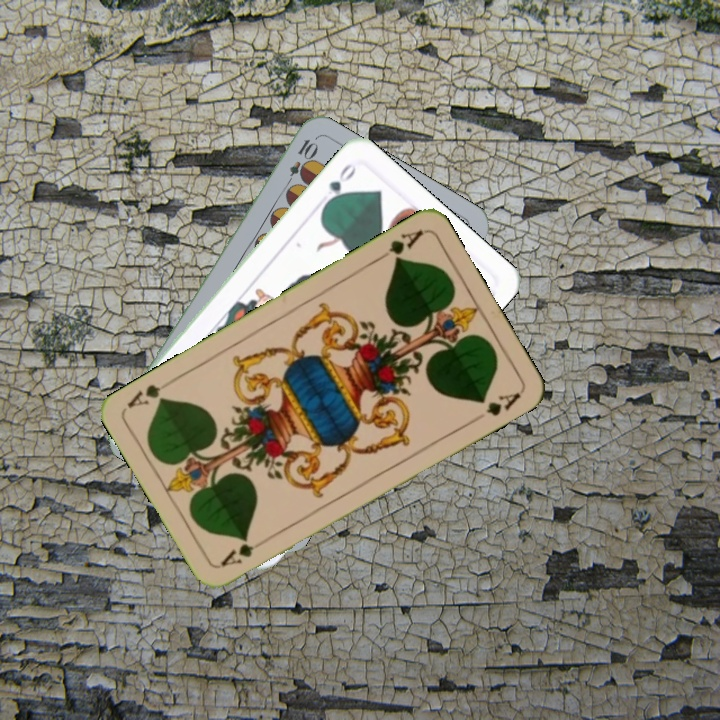E10: (281, 135, 319, 191)
GA: (372, 226, 426, 265), (216, 533, 271, 569)
GO: (319, 159, 359, 210)
